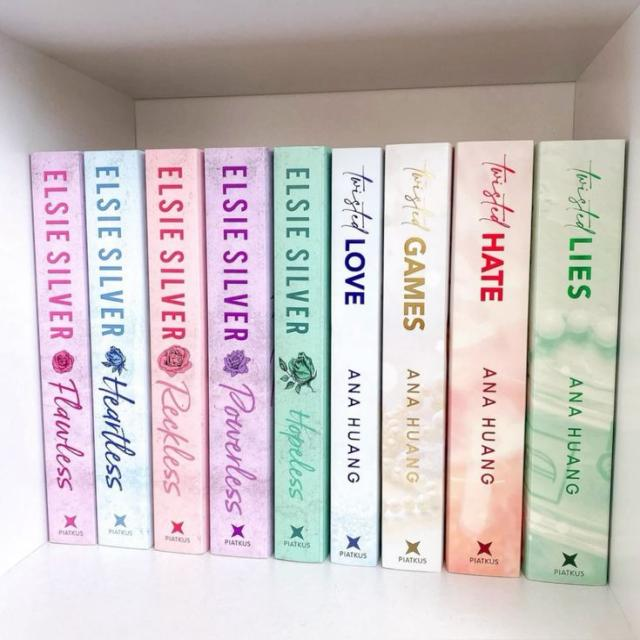book: (522, 140, 625, 583), (445, 141, 533, 576), (381, 142, 452, 570), (205, 148, 272, 556), (84, 150, 152, 548), (31, 151, 97, 544), (145, 149, 208, 553), (273, 146, 329, 562), (330, 148, 382, 566)
